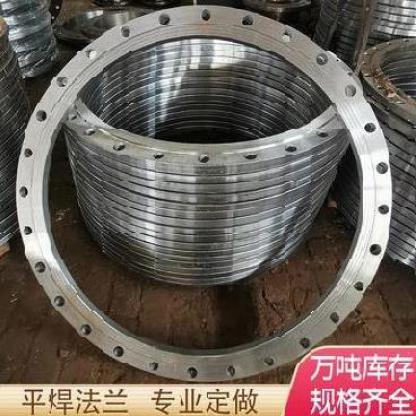FOD: (13, 0, 394, 386)
